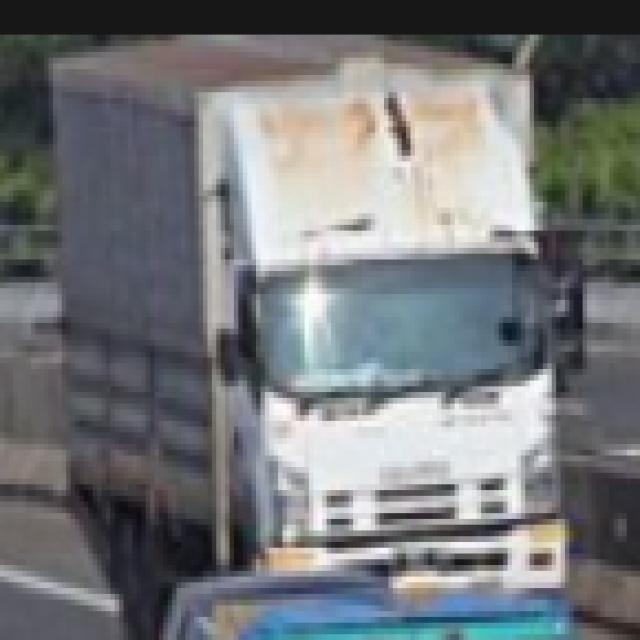Truck: (45, 28, 588, 622)
